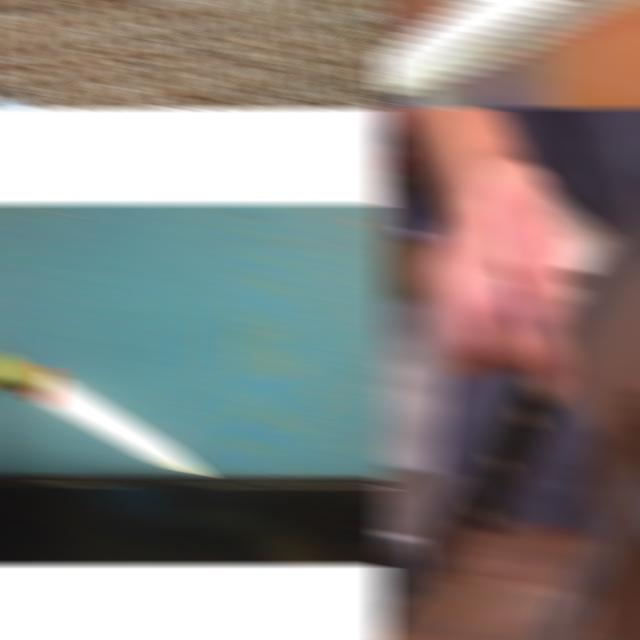Knife: (0, 351, 206, 476)
Knife_Handle: (412, 116, 640, 536), (0, 272, 226, 495), (378, 0, 640, 97)
